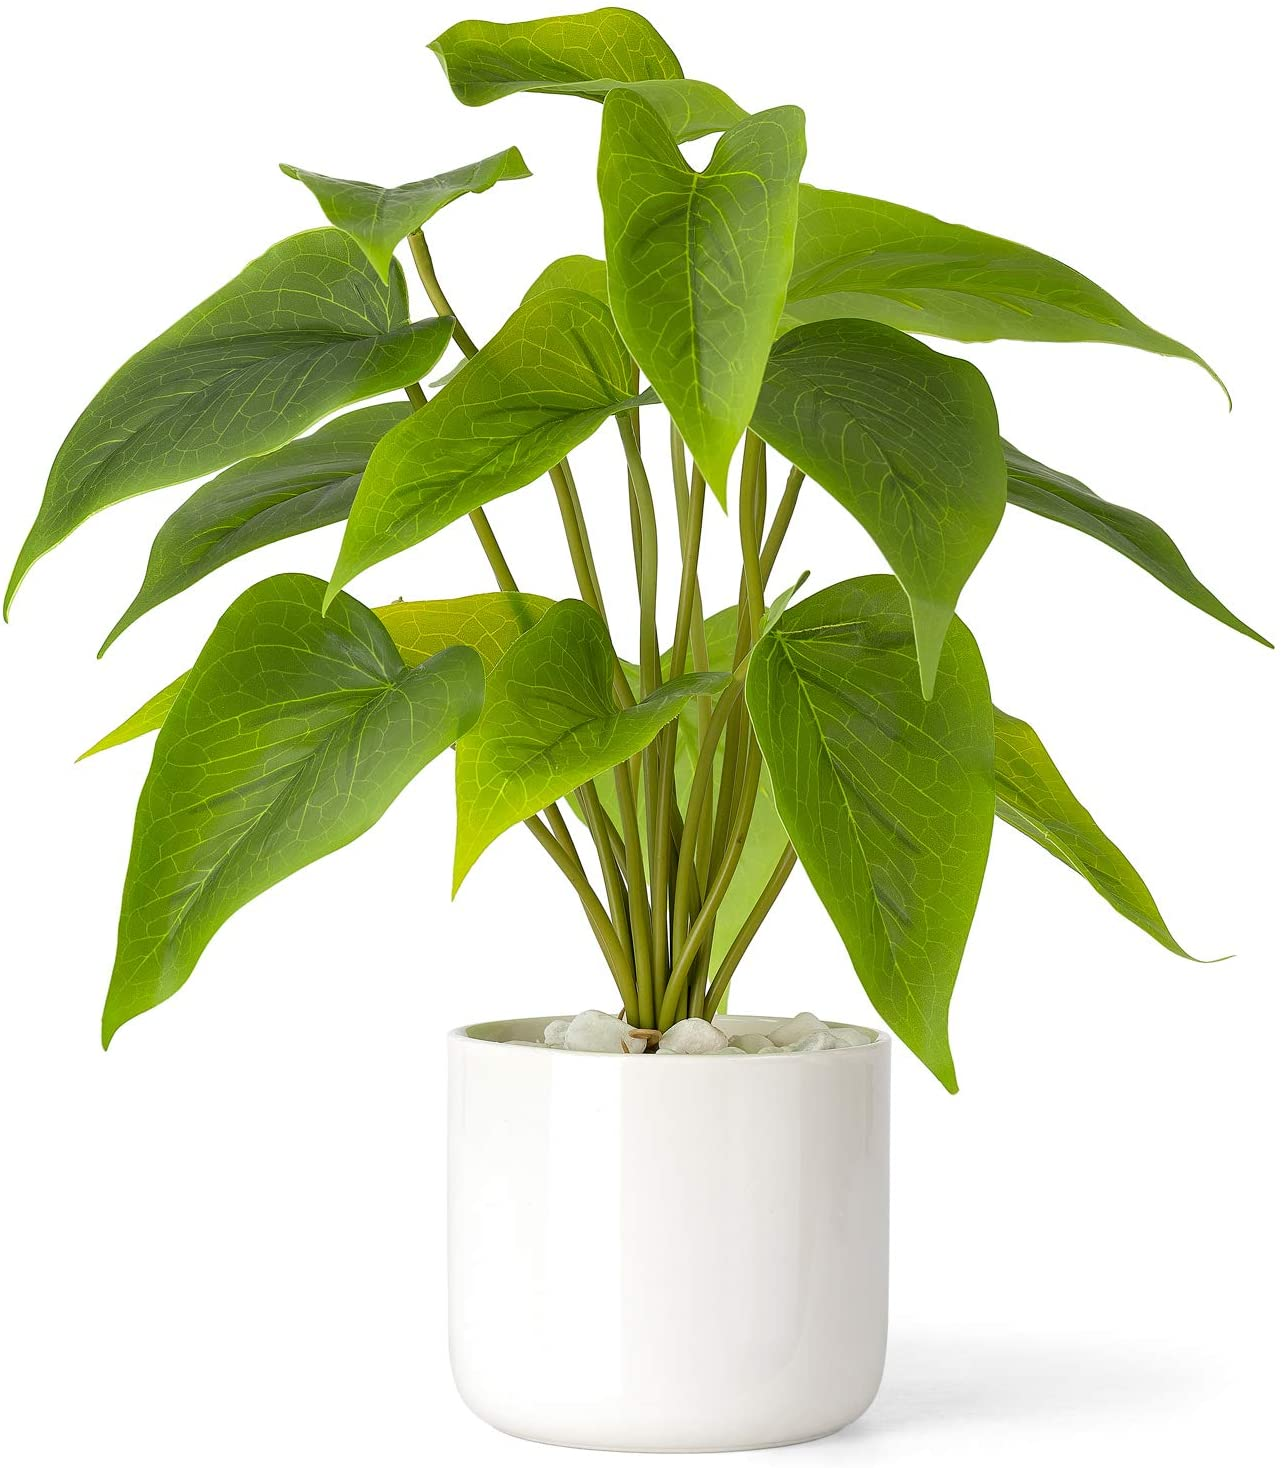tanaman: (52, 19, 1229, 1468)
